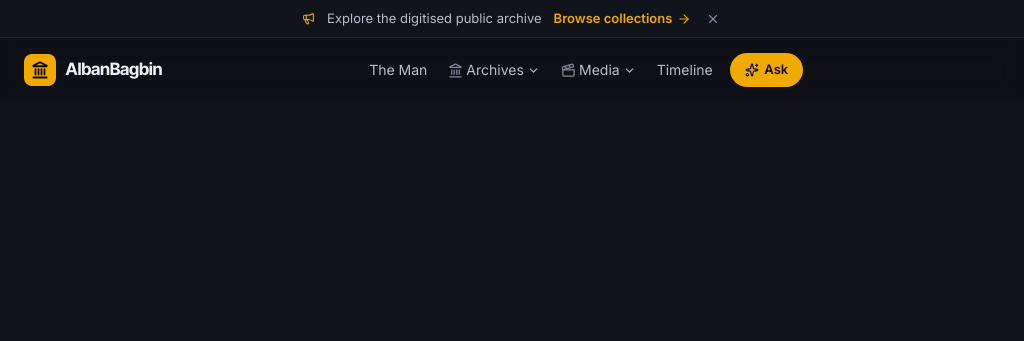
Test: PublicHeader section panels › closes on Escape pressed inside the panel and restores focus
Click the button "Media" at (598, 70), box [551, 54, 646, 86]
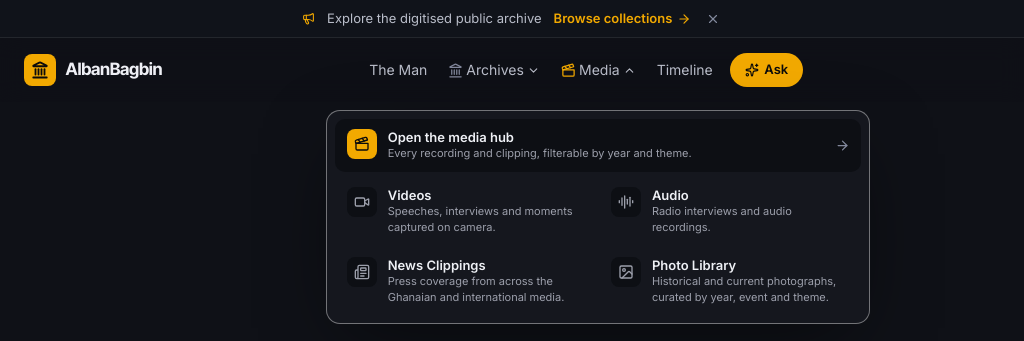
Press Escape in the element with id "nav-panel-media", box [326, 110, 870, 324]
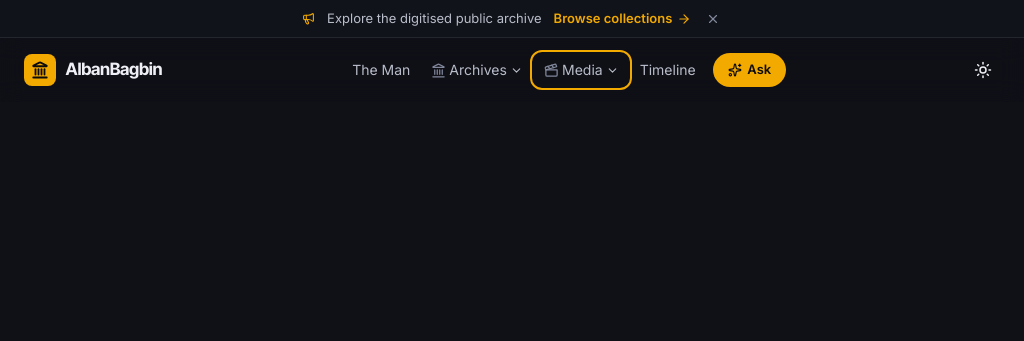
Expected: the link "Videos" is gone
